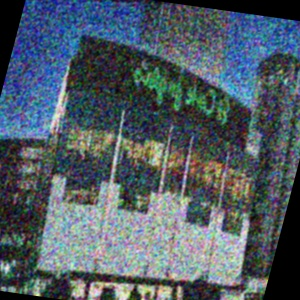corte_ingles: (184, 72, 300, 140)
